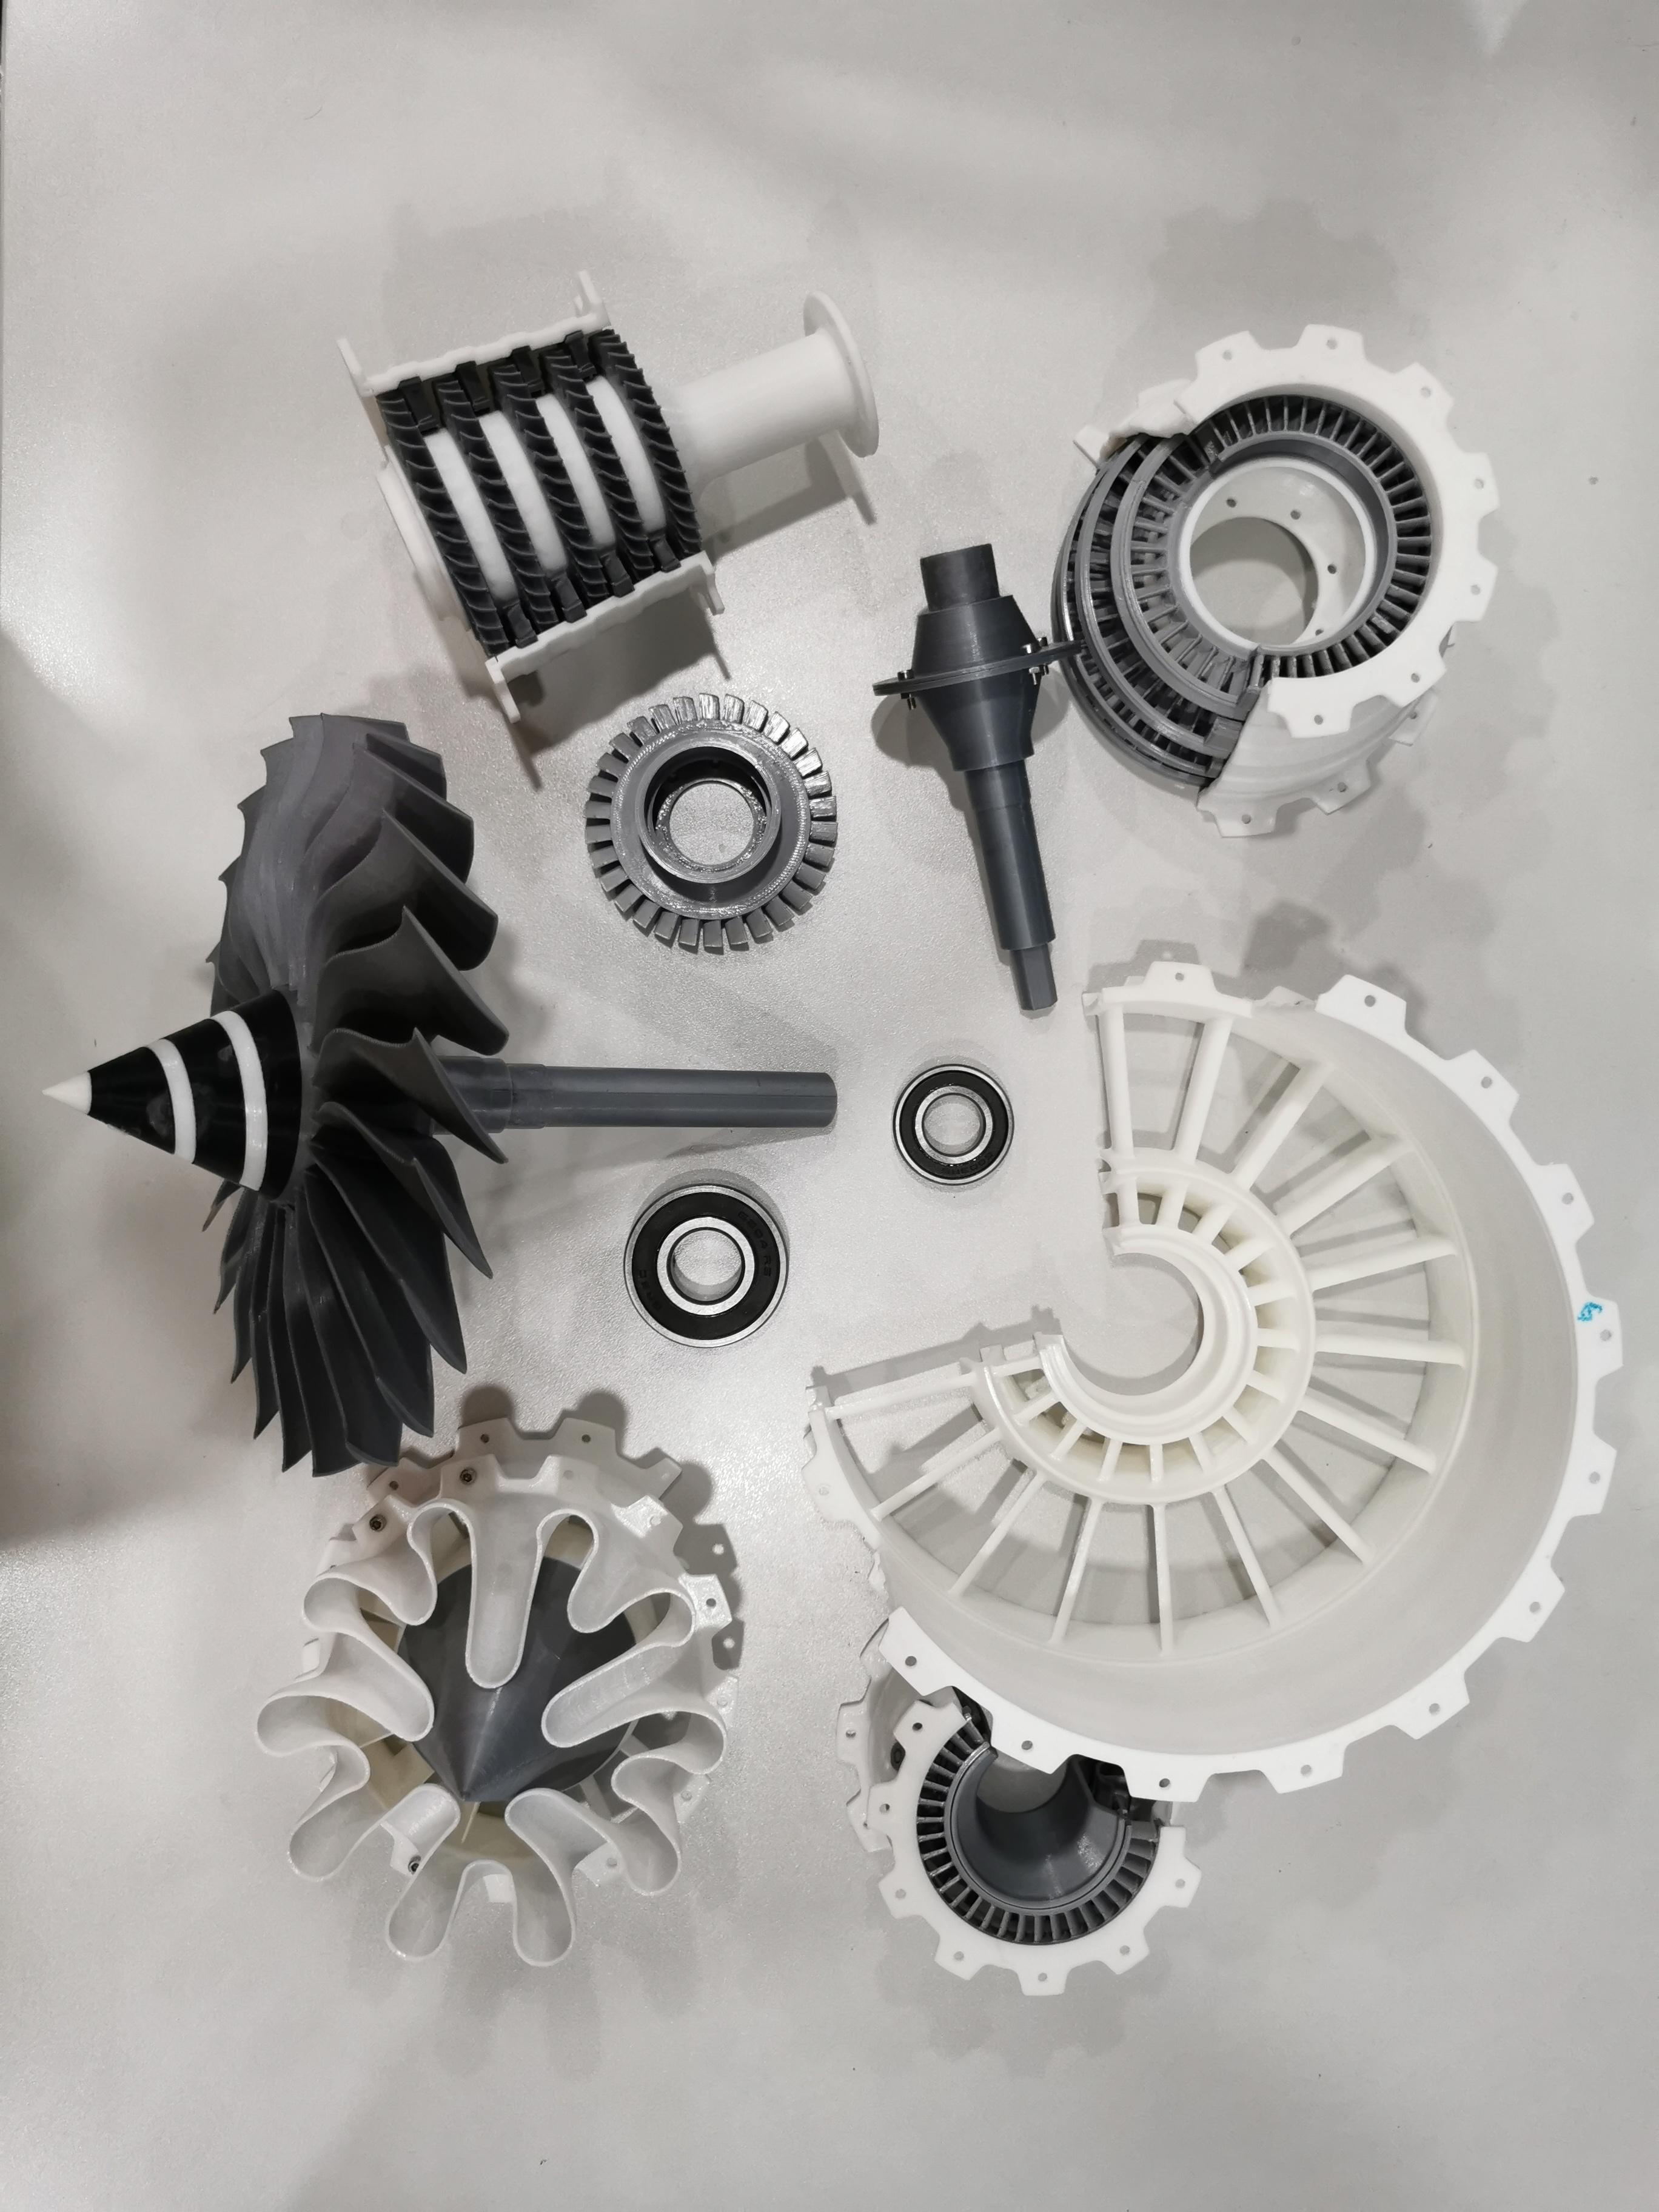Bearing-6003: (870, 1038, 1051, 1228)
Bearing-6204: (596, 1163, 824, 1367)
Combustion Section: (824, 1613, 1211, 2013)
Fan Casing and Support: (800, 953, 1636, 1815)
Fan and Low Pressure Shaft: (26, 698, 845, 1484)
HPT Section: (561, 678, 856, 956)
High Pressure Spool: (326, 261, 908, 728)
LPT Section: (1042, 301, 1521, 815)
Low Pressure Spool: (859, 526, 1091, 1031)
Nozzle Section: (232, 1404, 751, 1977)
